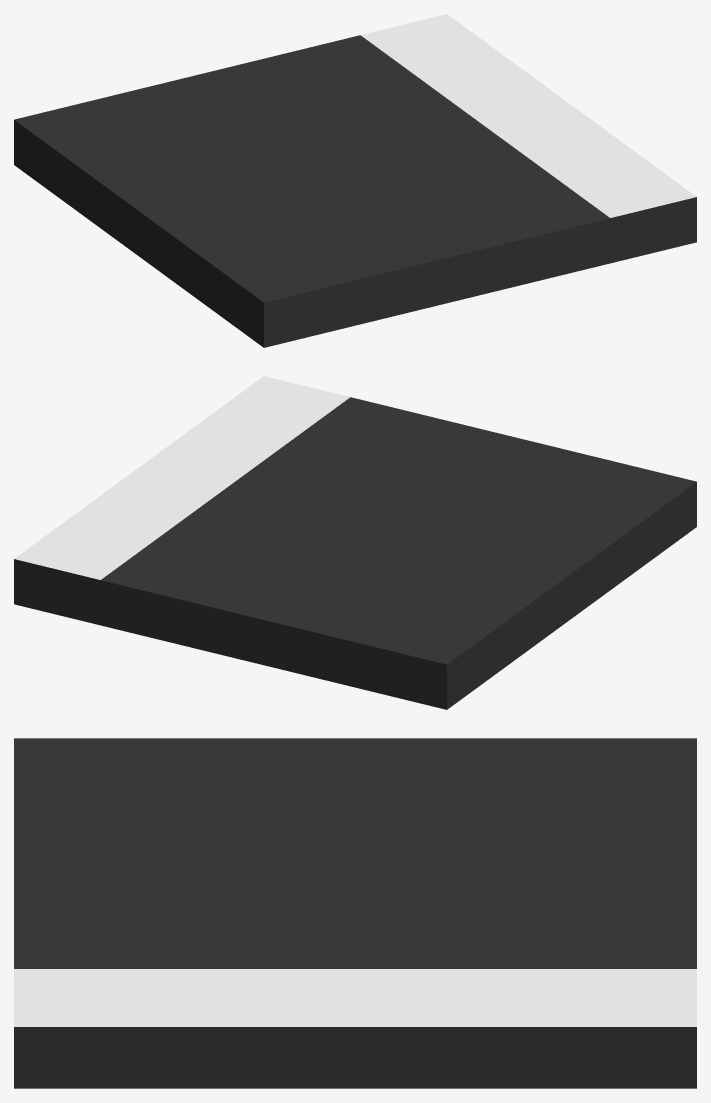
The model's file is Mod_TileRoad_07.fbx.
3 renders of one model, top to bottom at view 1: azimuth 30°, elevation 25°; view 2: azimuth 150°, elevation 25°; view 3: azimuth 270°, elevation 25°, orthographic. The views are drawn at different scales.
Parts seen in each view (by area): view 1: Mod_TileRoad_07; view 2: Mod_TileRoad_07; view 3: Mod_TileRoad_07.
Part boxes in pixels (<box>): Mod_TileRoad_07: <box>14,14,696,347</box>; Mod_TileRoad_07: <box>14,376,696,709</box>; Mod_TileRoad_07: <box>14,738,696,1088</box>.
Bounding box in the file's own units: 100 × 10 × 100.
